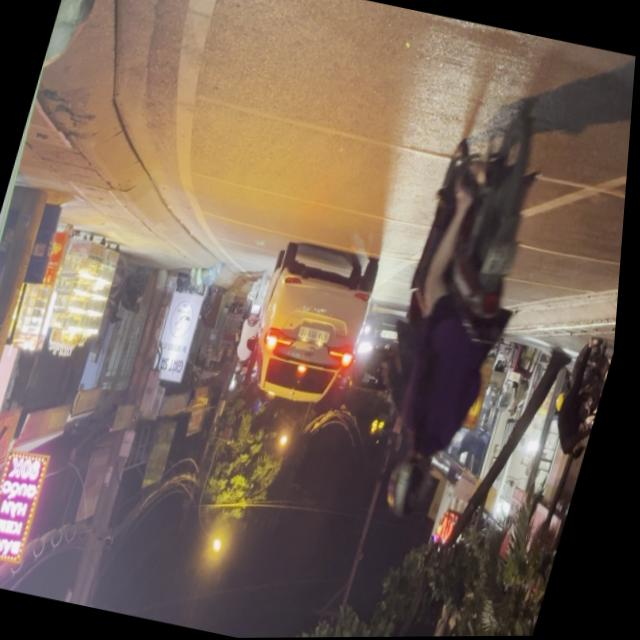helmet: (387, 443, 446, 523)
licenseplate: (347, 61, 584, 534)
nohelmet: (484, 239, 525, 281)
